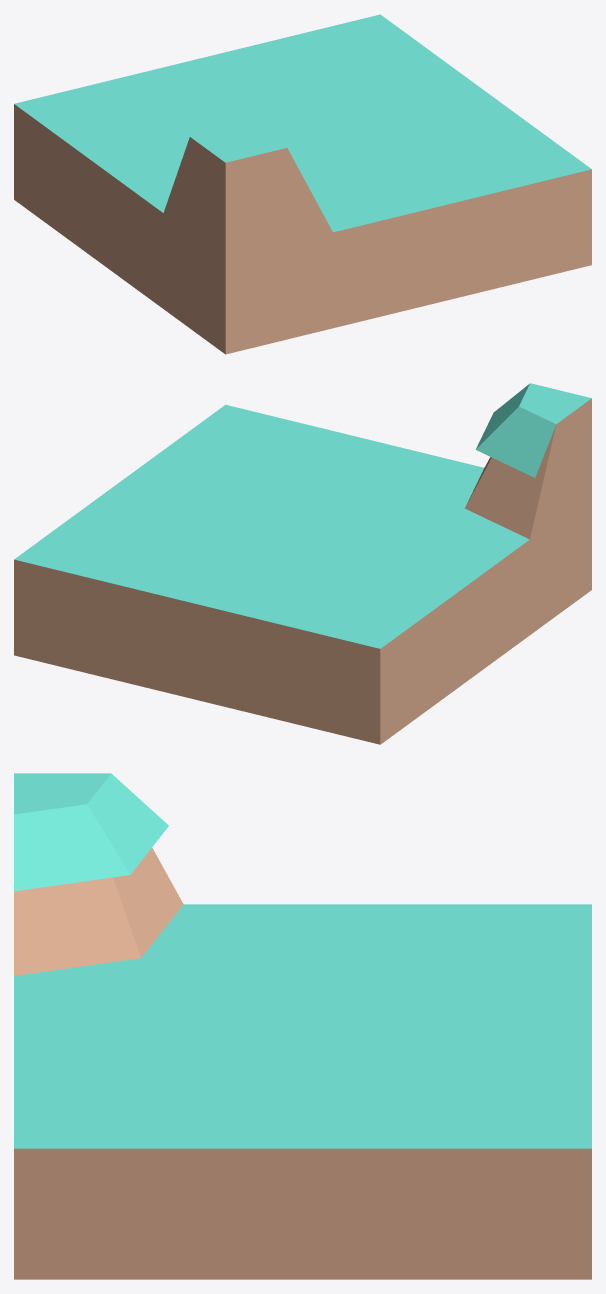
File: cliff_halfCorner_quarter_rock.glb
3 renders of one model, top to bottom at view 1: azimuth 30°, elevation 25°; view 2: azimuth 150°, elevation 25°; view 3: azimuth 270°, elevation 25°, orthographic. The views are drawn at different scales.
Visible parts, largest first — view 1: cliff_halfCorner_quarter_rock; view 2: cliff_halfCorner_quarter_rock; view 3: cliff_halfCorner_quarter_rock.
Boxes of the visible parts, box(x1,y1,x2,y2) form: cliff_halfCorner_quarter_rock: box(14, 14, 591, 354); cliff_halfCorner_quarter_rock: box(14, 383, 591, 744); cliff_halfCorner_quarter_rock: box(14, 773, 591, 1279).
Size of the model in its own units: 1 by 0.5 by 1.
